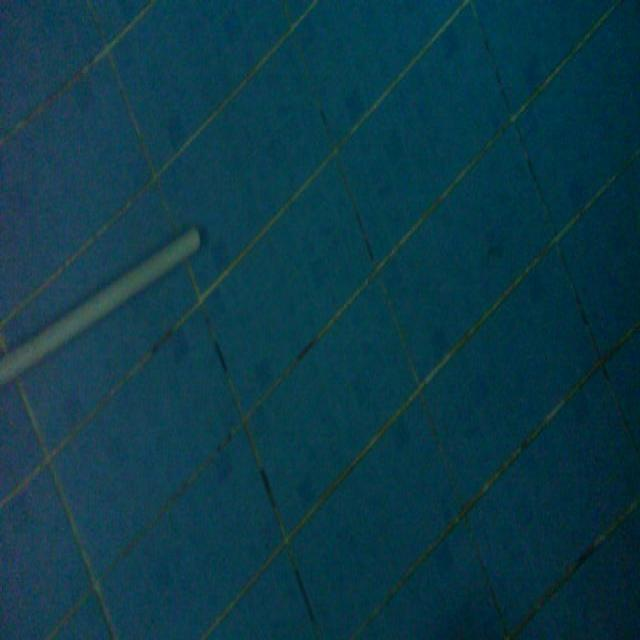Cube: (0, 219, 202, 389)
